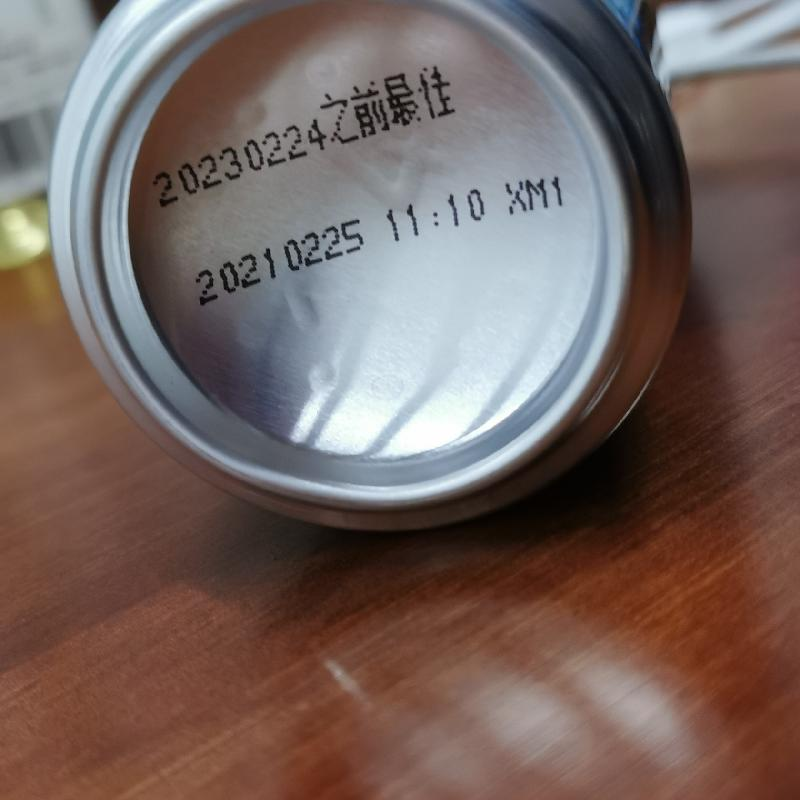cans: (49, 4, 699, 529)
